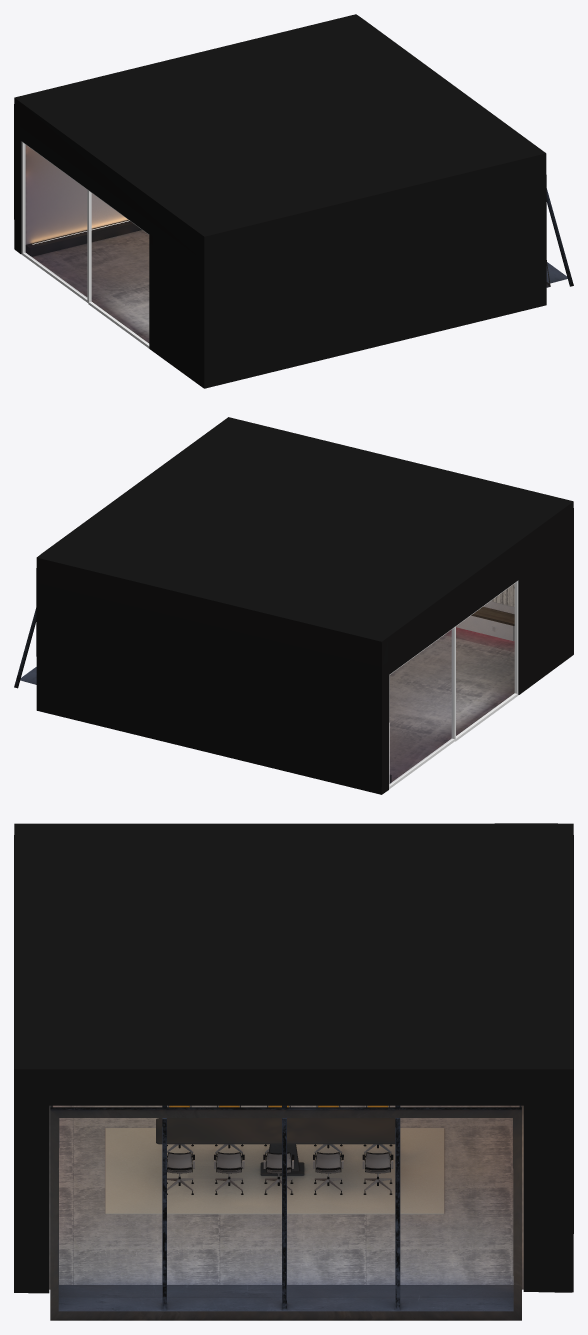
File: meeting_room.glb
The picture shows the model from 3 angles, top to bottom: view 1: azimuth 30°, elevation 25°; view 2: azimuth 150°, elevation 25°; view 3: azimuth 270°, elevation 25°; orthographic projection. The views are drawn at different scales.
Visible parts, largest first — view 1: mur ext_noir_0, bureau_sol_, bureaux_murs, cadre; view 2: mur ext_noir_0, bureau_sol_, bureaux_murs, cadre; view 3: mur ext_noir_0, bureau_sol_, bureaux_murs.
Boxes of the visible parts, x1=… form: mur ext_noir_0: x1=14, y1=14, x2=546, y2=388; bureau_sol_: x1=25, y1=220, x2=149, y2=343; bureaux_murs: x1=25, y1=145, x2=573, y2=287; cadre: x1=21, y1=141, x2=149, y2=348; mur ext_noir_0: x1=36, y1=417, x2=573, y2=794; bureau_sol_: x1=389, y1=600, x2=514, y2=783; bureaux_murs: x1=14, y1=584, x2=514, y2=688; cadre: x1=389, y1=580, x2=518, y2=789; mur ext_noir_0: x1=14, y1=823, x2=573, y2=1293; bureau_sol_: x1=49, y1=1105, x2=523, y2=1289; bureaux_murs: x1=50, y1=1105, x2=521, y2=1320.
Size of the model in its own units: 12.41 by 4.75 by 10.69.
Materials: 6 (2 with a texture image).
